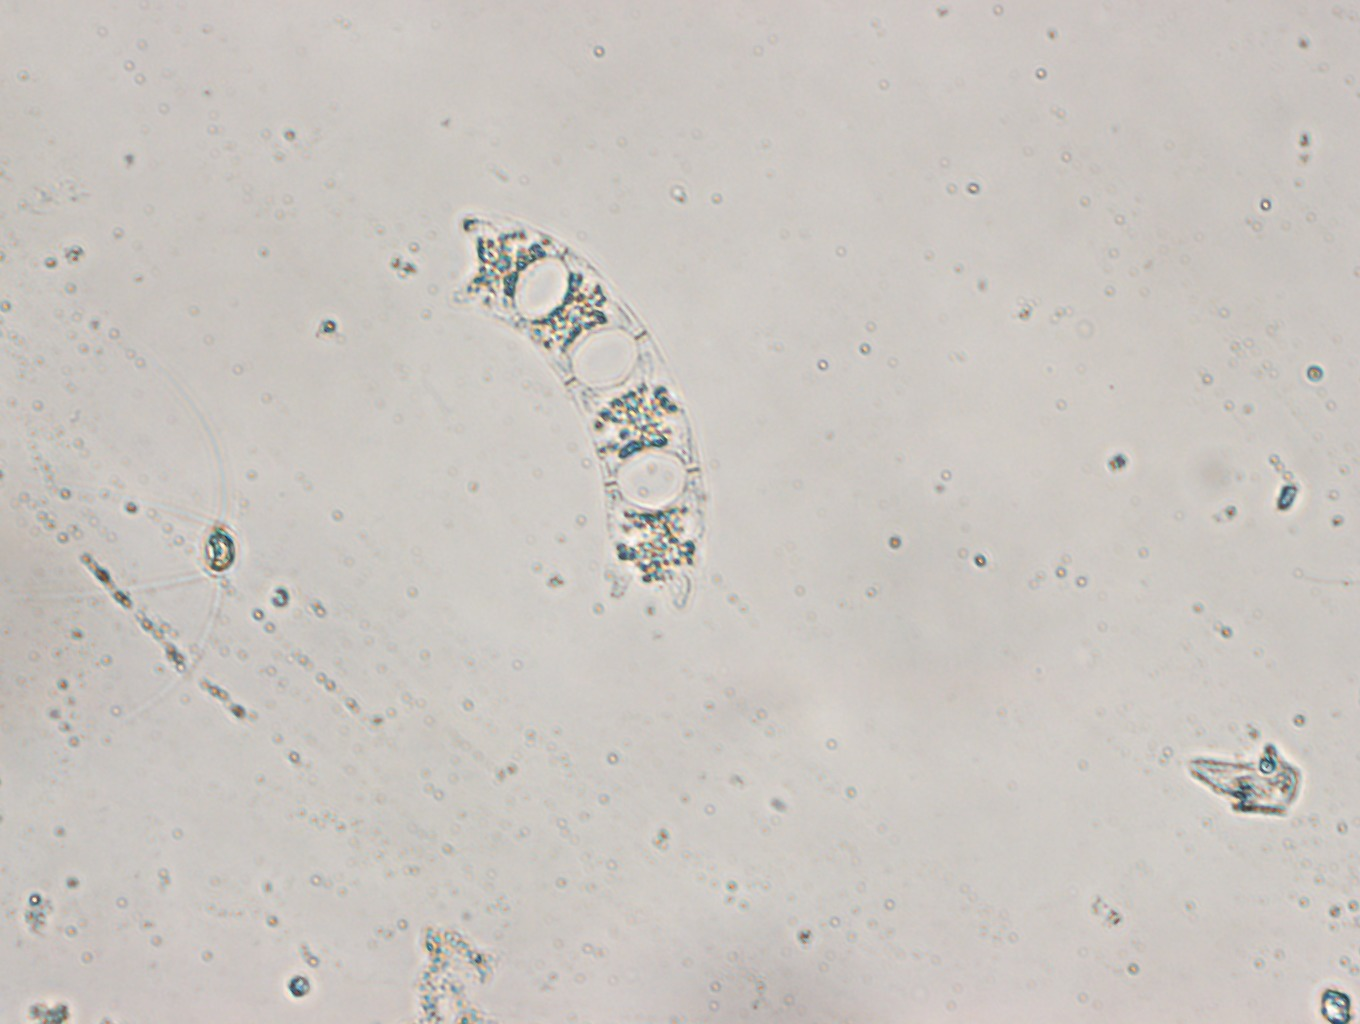eucampia: (447, 211, 705, 625)
